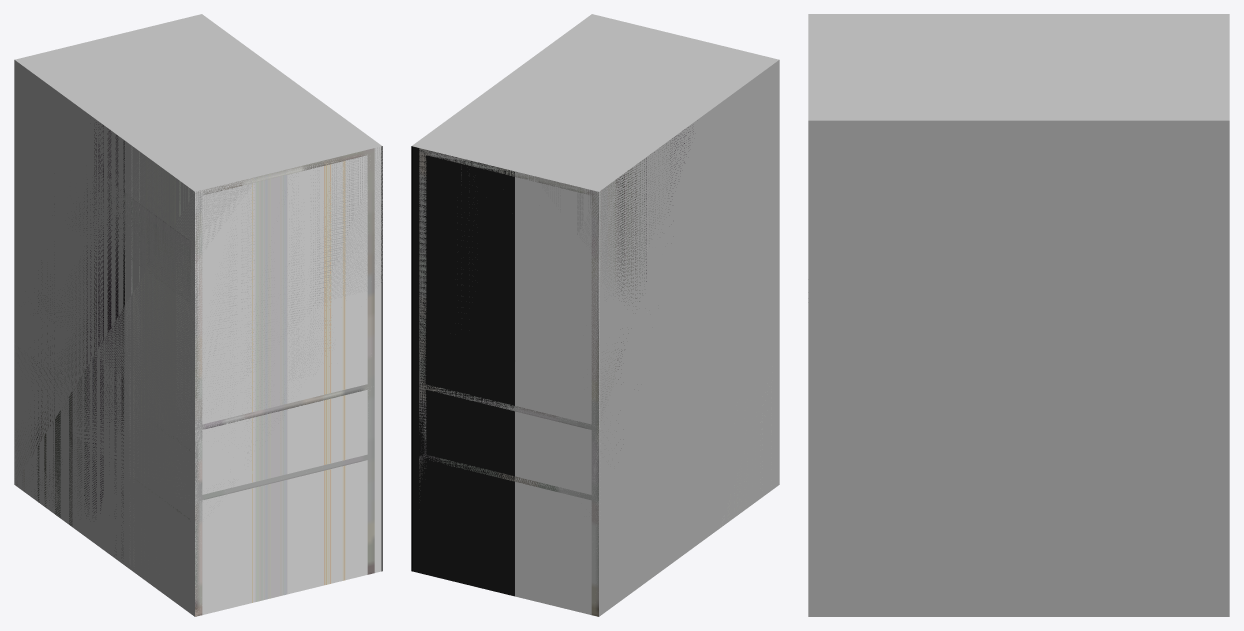
The model's file is foodcart.DAE.
The picture shows the model from 3 angles, left to right: view 1: azimuth 30°, elevation 25°; view 2: azimuth 150°, elevation 25°; view 3: azimuth 270°, elevation 25°; orthographic projection. The views are drawn at different scales.
Parts seen in each view (by area): view 1: bounds, colbox-1, food_cart100; view 2: bounds, colbox-1, food_cart100; view 3: bounds.
Part boxes in pixels (x1=…): bounds: x1=14, y1=14, x2=382, y2=616; colbox-1: x1=14, y1=122, x2=382, y2=616; food_cart100: x1=59, y1=148, x2=374, y2=616; bounds: x1=412, y1=14, x2=779, y2=616; colbox-1: x1=411, y1=127, x2=760, y2=614; food_cart100: x1=419, y1=148, x2=629, y2=616; bounds: x1=808, y1=14, x2=1229, y2=616.
Bounding box in the file's own units: 67.14 × 112 × 145.
